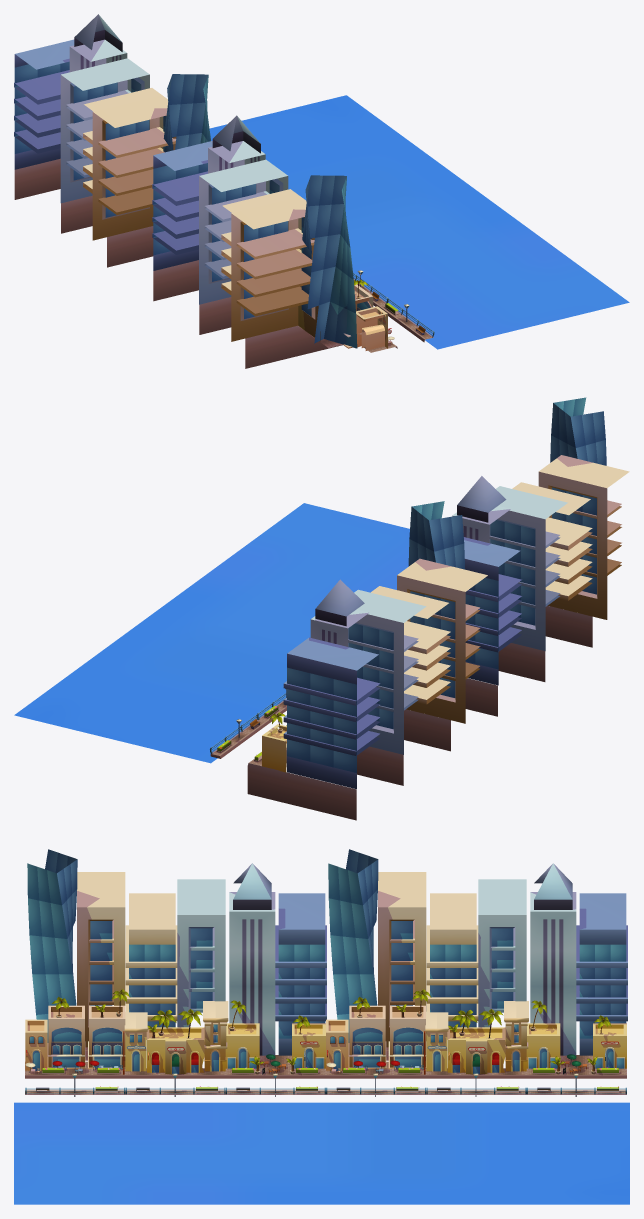
The model's file is City1.fbx.
3 views of the same model, one above another, from view 1: azimuth 30°, elevation 25°; view 2: azimuth 150°, elevation 25°; view 3: azimuth 270°, elevation 25° (orthographic). The views are drawn at different scales.
Parts seen in each view (by area): view 1: Plane, 1.104_Dubai_high_03_right.001, 1.104_Dubai_high_03_right, 1.104_Dubai_high_01_right, 1.104_Dubai_high_01_right.001, 1.104_Dubai_high_02_right.001, 1.104_Dubai_high_02_right, 1.104_Dubai_high_03_left.001; view 2: Plane, 1.104_Dubai_high_01_right, 1.104_Dubai_high_02_right.001, 1.104_Dubai_high_02_right, 1.104_Dubai_high_03_right.001, 1.104_Dubai_high_03_right, 1.104_Dubai_high_01_right.001, 1.104_Dubai_high_01_left; view 3: Plane, 1.104_Dubai_high_03_right.001, 1.104_Dubai_high_03_right, 1.104_Dubai_high_02_right.001, 1.104_Dubai_high_02_right, 1.104_Dubai_high_01_right, 1.104_Dubai_high_01_right.001, 1.104_Dubai_high_02_left, 1.104_Dubai_high_03_left.001, 1.104_Dubai_high_02_left.001, 1.104_Dubai_high_01_left, 1.104_Dubai_high_03_left (+1 smaller).
Part boxes in pixels (box(x1,y1,x2,y2)): Plane: box(209, 95, 629, 349); 1.104_Dubai_high_03_right.001: box(231, 175, 397, 368); 1.104_Dubai_high_03_right: box(92, 74, 210, 267); 1.104_Dubai_high_01_right: box(14, 14, 127, 199); 1.104_Dubai_high_01_right.001: box(152, 115, 265, 301); 1.104_Dubai_high_02_right.001: box(199, 159, 306, 334); 1.104_Dubai_high_02_right: box(60, 58, 167, 233); 1.104_Dubai_high_03_left.001: box(378, 297, 434, 342); Plane: box(14, 503, 409, 763); 1.104_Dubai_high_01_right: box(247, 579, 380, 820); 1.104_Dubai_high_02_right.001: box(489, 482, 592, 681); 1.104_Dubai_high_02_right: box(348, 586, 450, 785); 1.104_Dubai_high_03_right.001: box(538, 397, 629, 647); 1.104_Dubai_high_03_right: box(397, 501, 487, 751); 1.104_Dubai_high_01_right.001: box(452, 476, 521, 716); 1.104_Dubai_high_01_left: box(210, 713, 267, 758); Plane: box(14, 1102, 629, 1204); 1.104_Dubai_high_03_right.001: box(25, 849, 129, 1078); 1.104_Dubai_high_03_right: box(326, 849, 431, 1078); 1.104_Dubai_high_02_right.001: box(124, 879, 228, 1078); 1.104_Dubai_high_02_right: box(425, 879, 528, 1078); 1.104_Dubai_high_01_right: box(526, 863, 627, 1078); 1.104_Dubai_high_01_right.001: box(225, 863, 326, 1078); 1.104_Dubai_high_02_left: box(426, 1073, 526, 1096); 1.104_Dubai_high_03_left.001: box(25, 1073, 125, 1096); 1.104_Dubai_high_02_left.001: box(125, 1073, 225, 1096); 1.104_Dubai_high_01_left: box(526, 1073, 626, 1096); 1.104_Dubai_high_03_left: box(326, 1073, 426, 1096).
Bounding box in the file's own units: 48432 × 26518 × 68403.
